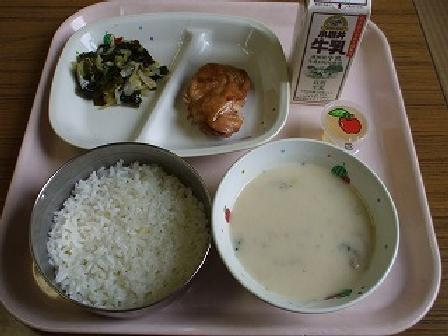Cup desserts: (312, 96, 376, 157)
Meat: (174, 59, 258, 134)
Milk: (285, 1, 377, 110)
Rice: (36, 141, 206, 301)
Salad: (68, 34, 172, 119)
soup-plain: (210, 146, 402, 310)
